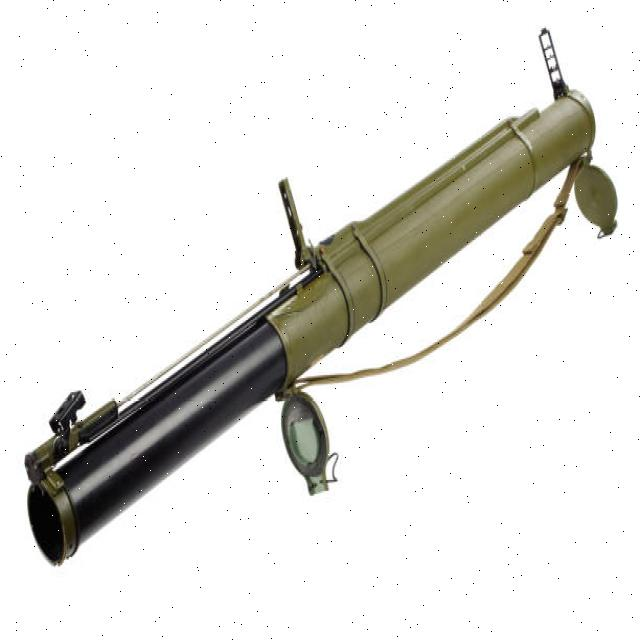bazooka: (16, 25, 624, 574)
